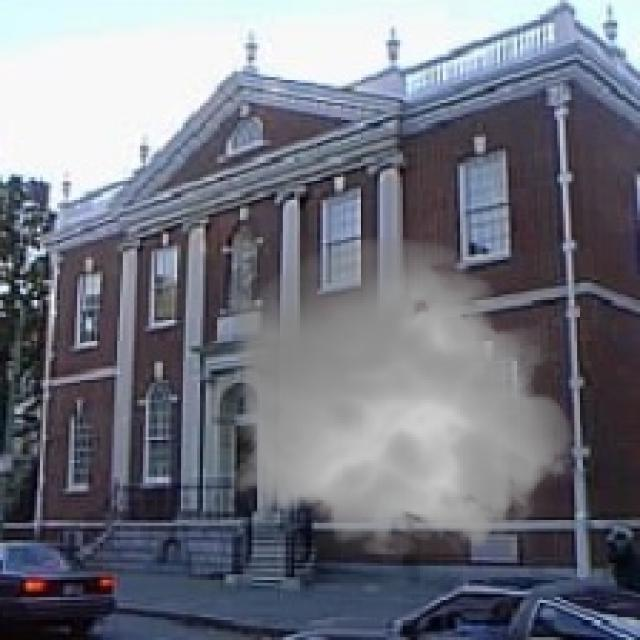Smoke: (214, 226, 589, 568)
